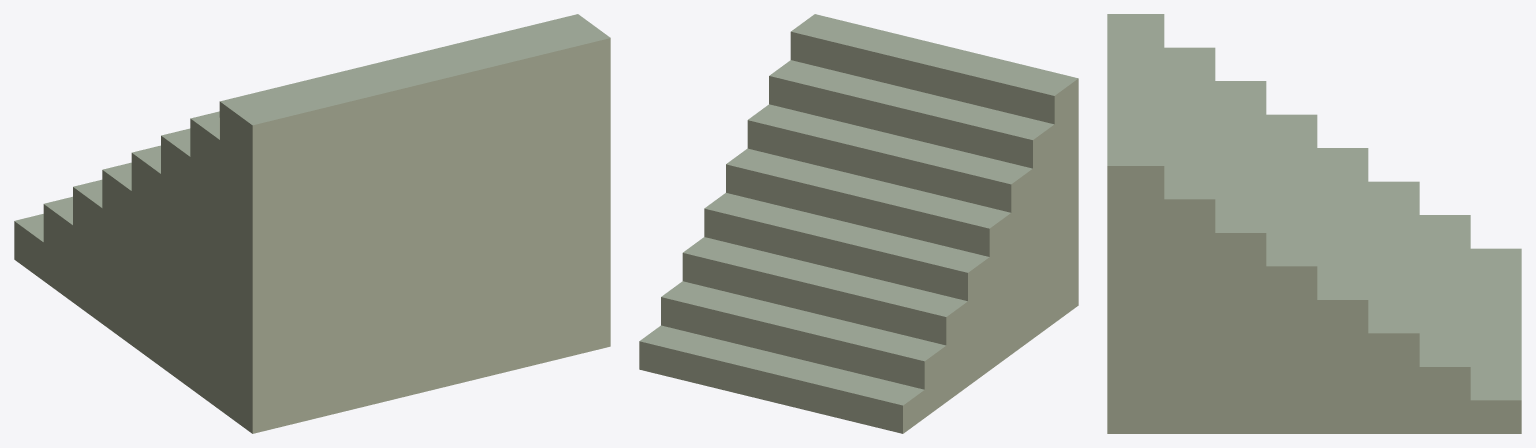
File: Escaliers pierre.fbx
The picture shows the model from 3 angles, left to right: view 1: azimuth 30°, elevation 25°; view 2: azimuth 150°, elevation 25°; view 3: azimuth 270°, elevation 25°; orthographic projection. The views are drawn at different scales.
Visible parts, largest first — view 1: Escaliers Temple 2.4; view 2: Escaliers Temple 2.4; view 3: Escaliers Temple 2.4.
Part boxes in pixels (x1,y1,x2,y2): Escaliers Temple 2.4: (14,14,610,433); Escaliers Temple 2.4: (639,14,1078,433); Escaliers Temple 2.4: (1107,14,1521,433).
Size of the model in its own units: 141 by 116 by 162.
